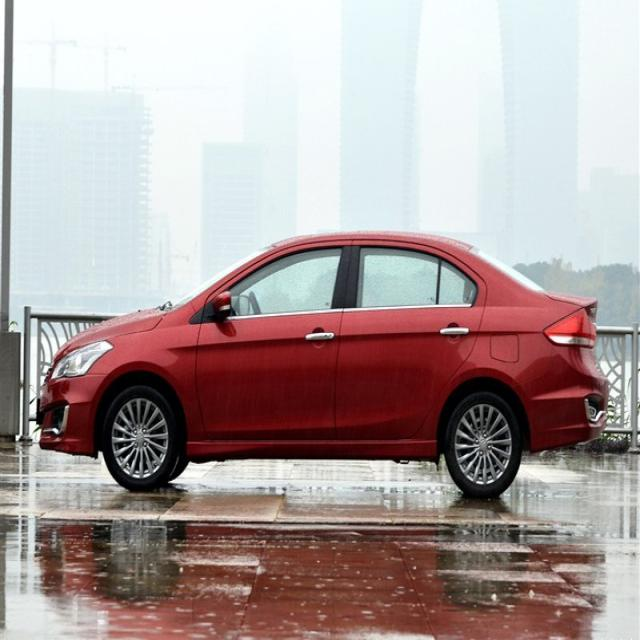back_left_side_light: (542, 310, 598, 346)
door: (342, 244, 491, 447)
front_bumper: (37, 370, 110, 461)
front_left_side_door: (194, 236, 354, 463)
front_left_side_light: (49, 339, 115, 379)
front_left_side_mirror: (212, 291, 237, 321)
rear_bumper: (514, 342, 610, 455)
wheel: (105, 385, 180, 489), (446, 392, 520, 496)
